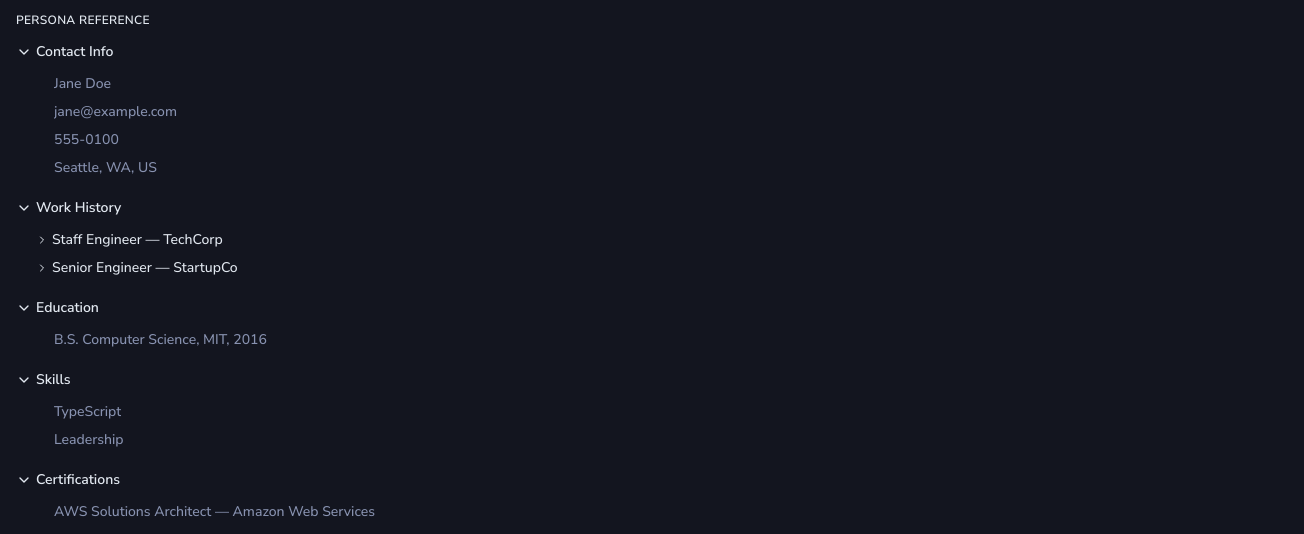
Test case: PersonaReferencePanel › collapsible sections › clicking a section header collapses it
Step 1. Click the button "Contact Info" → [75, 52], box top-left (12, 36), bottom-right (1292, 68)
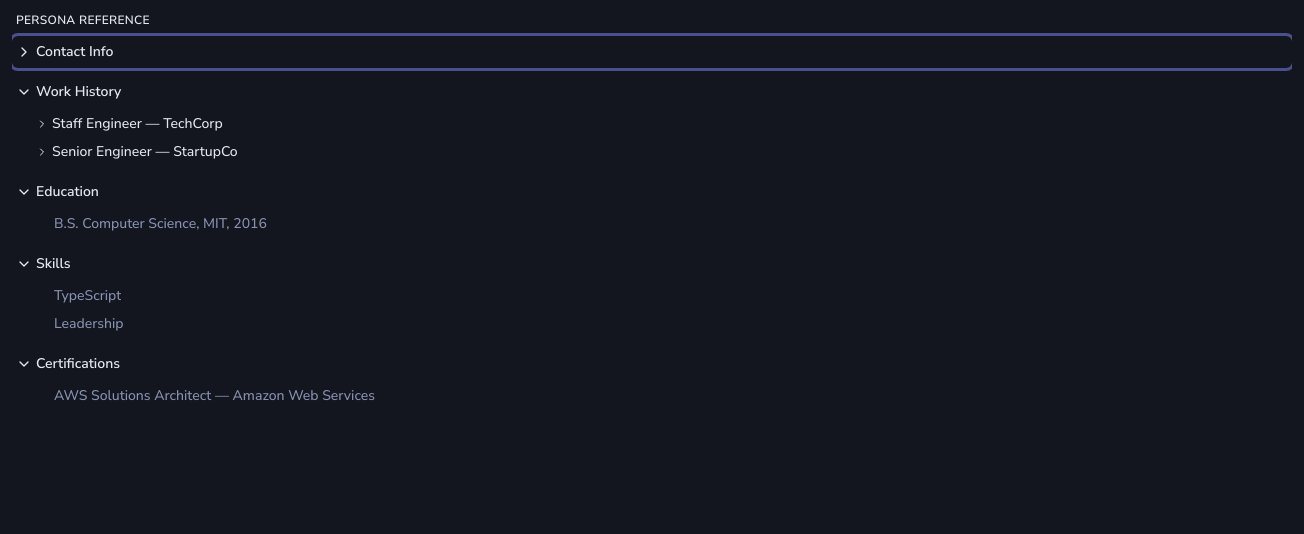
Now the button "Contact Info" is collapsed, box top-left (12, 36), bottom-right (1292, 68)
